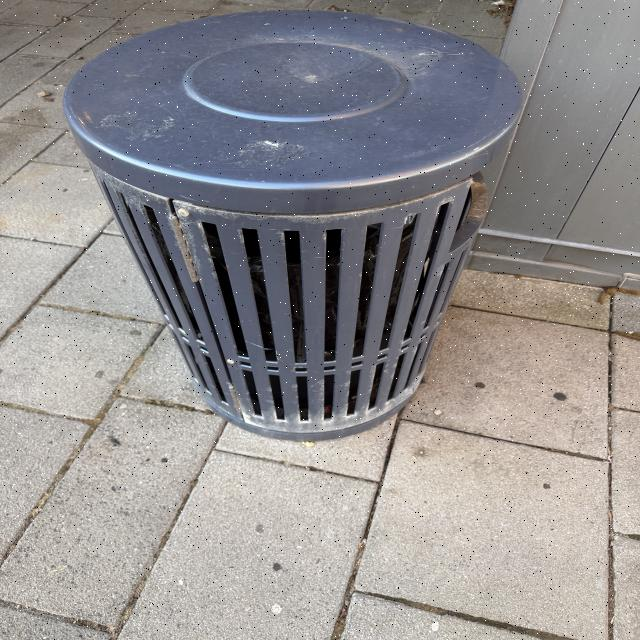Dustbin: (66, 12, 523, 444)
